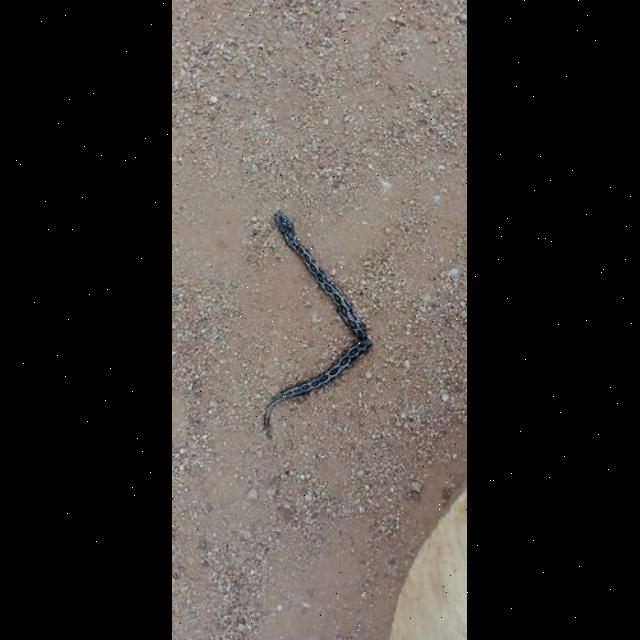snake: (262, 212, 370, 440)
